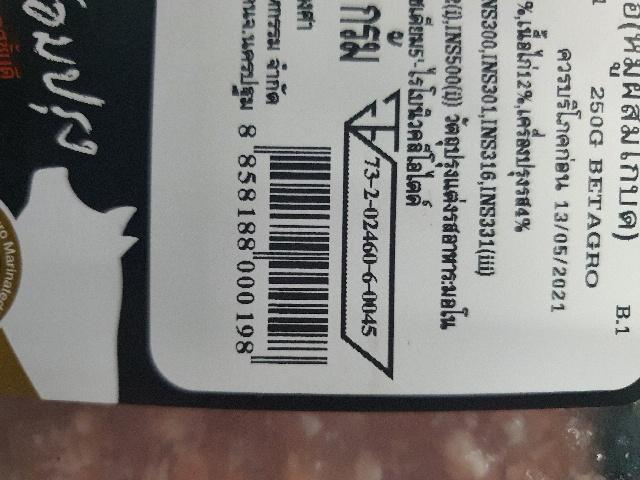Barcode: (226, 117, 333, 375)
